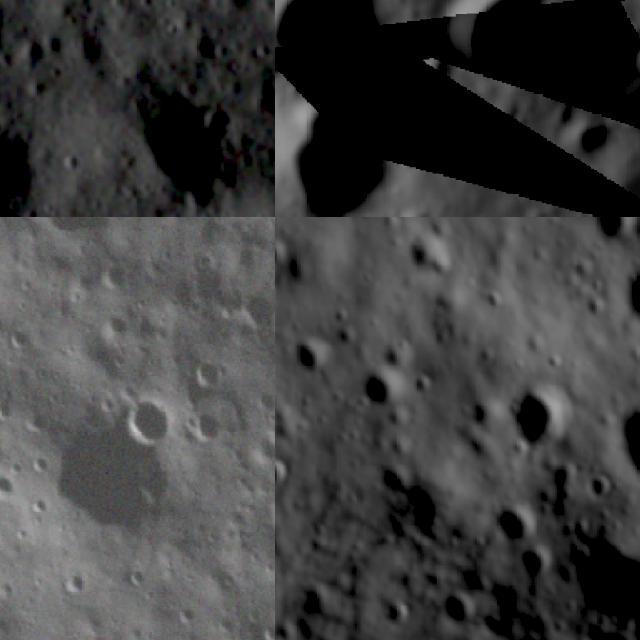crater: (12, 399, 194, 562), (275, 105, 381, 217), (434, 0, 554, 80), (275, 0, 388, 84), (114, 387, 178, 453), (517, 383, 568, 459), (181, 401, 237, 457), (35, 217, 113, 257), (227, 279, 275, 339), (182, 346, 233, 395), (566, 118, 616, 158), (622, 39, 640, 148), (615, 402, 640, 480), (493, 497, 538, 540), (96, 308, 139, 352), (255, 467, 275, 561), (358, 370, 400, 412), (98, 254, 133, 300), (290, 338, 329, 376), (61, 563, 99, 600), (0, 464, 25, 512), (384, 592, 414, 628), (520, 550, 560, 576), (589, 217, 634, 239), (591, 468, 614, 508), (414, 371, 440, 402), (121, 561, 148, 588), (481, 289, 510, 311), (275, 459, 295, 490), (583, 298, 607, 319), (261, 418, 275, 450), (275, 240, 285, 276), (261, 617, 275, 640)
